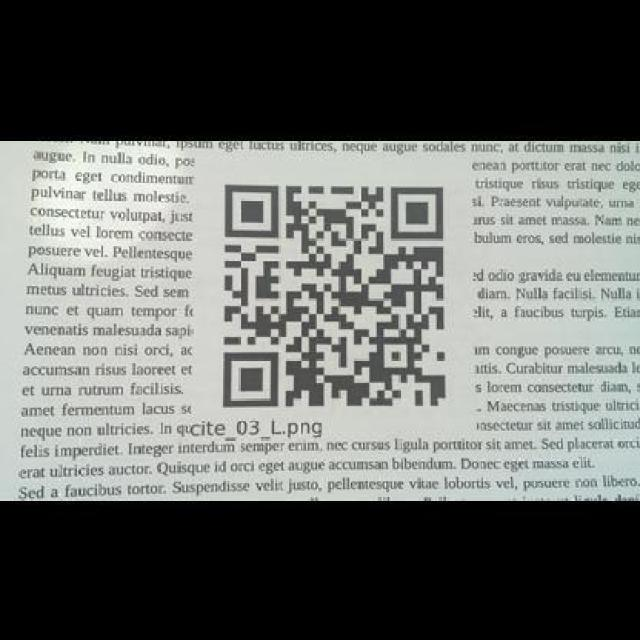QRCode: (213, 173, 458, 415)
